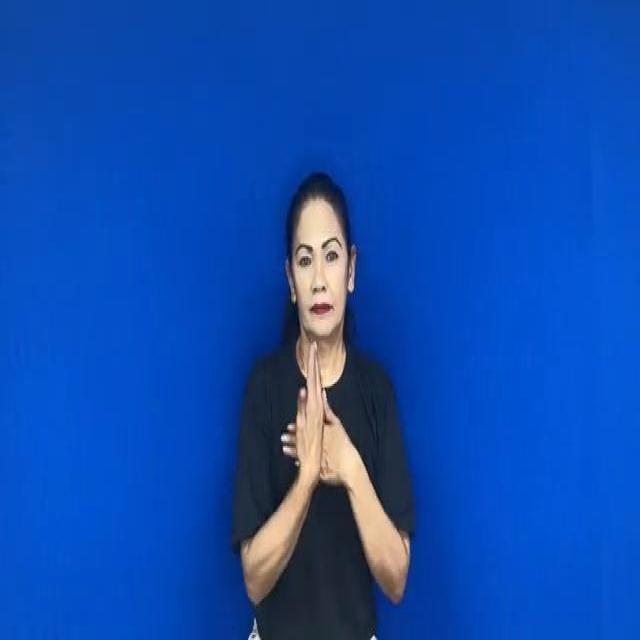bread: (285, 345, 357, 500)
